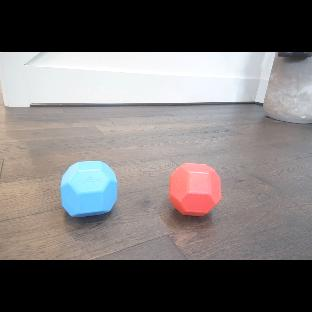V5_BLUE: (61, 161, 118, 217)
V5_RED: (169, 163, 222, 217)
